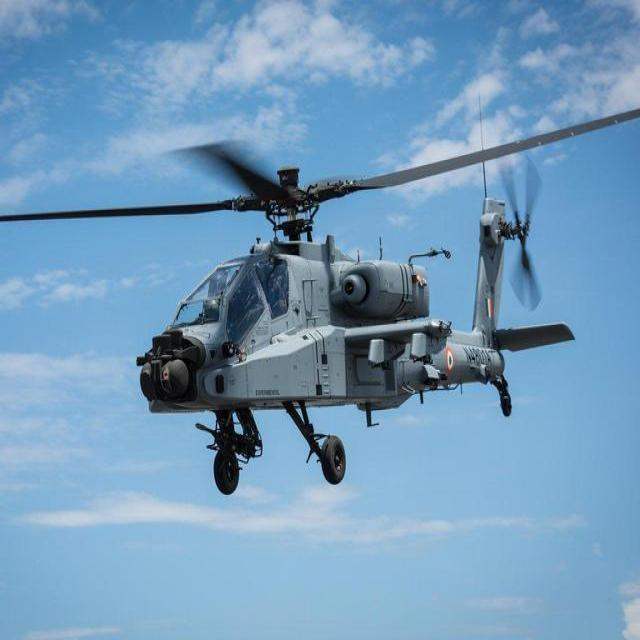MIL_HELO: (0, 99, 626, 504)
